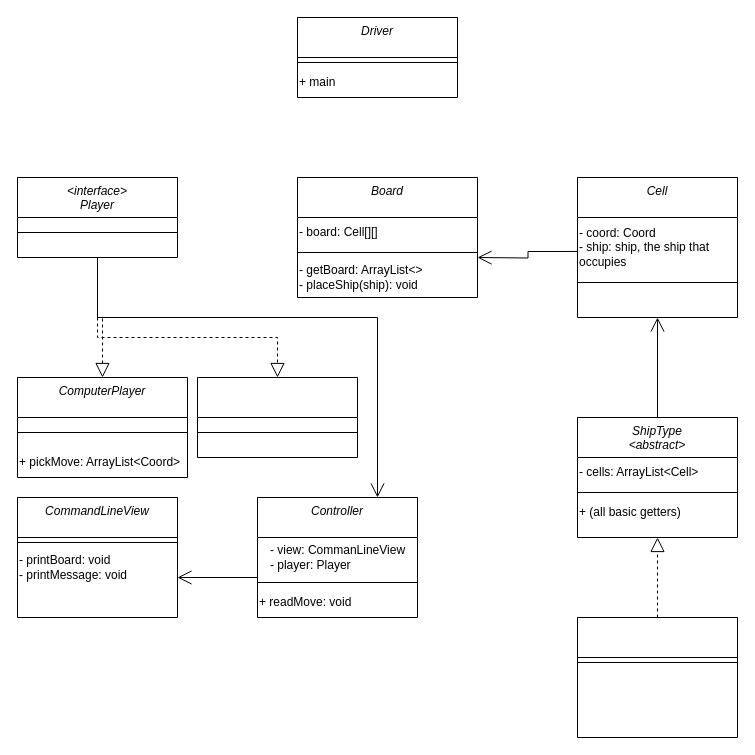
The diagram is 755 pixels wide and 755 high, and some of its shapes have lost their labels. The shapes that lost their labels are listed below. From the top down, each one's centre as x and y in pixels, then its label:
At pixel 277 417: "ManualPlayer".
At pixel 657 677: "[All Ship Types]".
